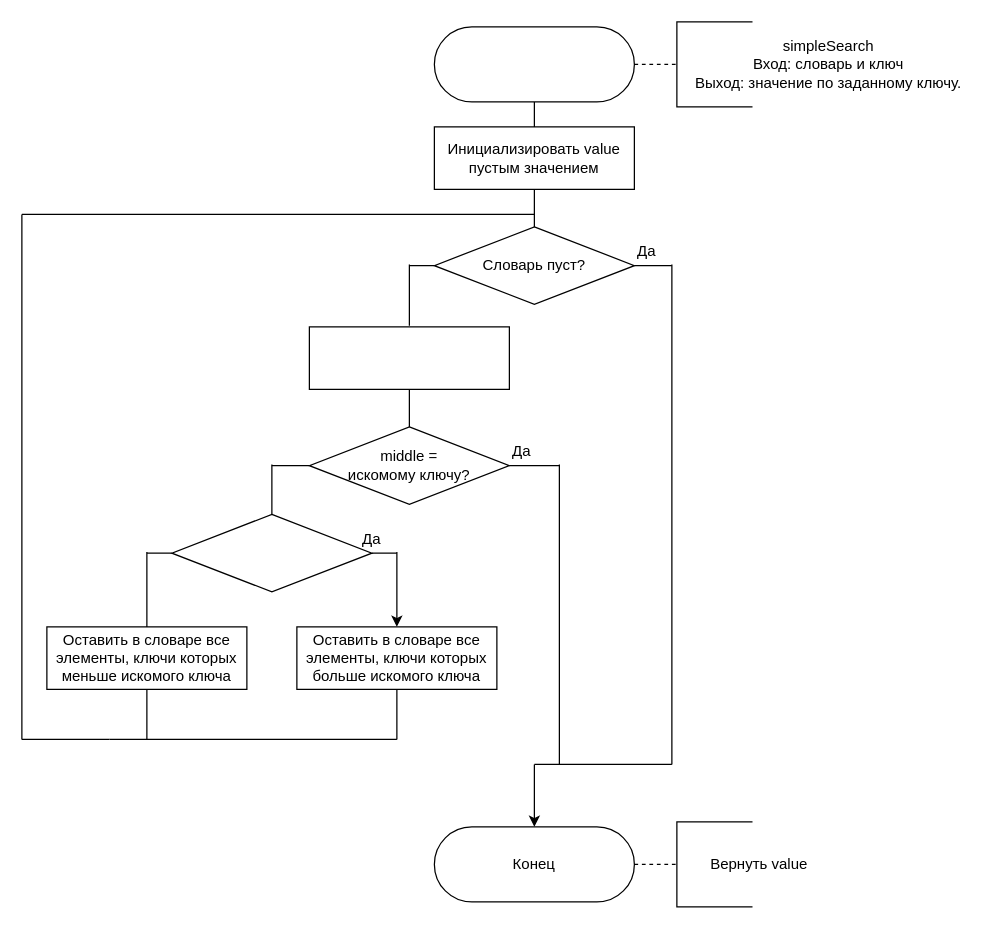
This 1006x929 diagram has some shape labels left out. Here are the shapes that lost their labels. From the top down, the box of each, then its label:
(433, 26, 634, 102): Начало
(308, 326, 509, 389): Присвоить в middle средний ключ из словаря
(171, 513, 372, 592): middle > искомого ключа?
